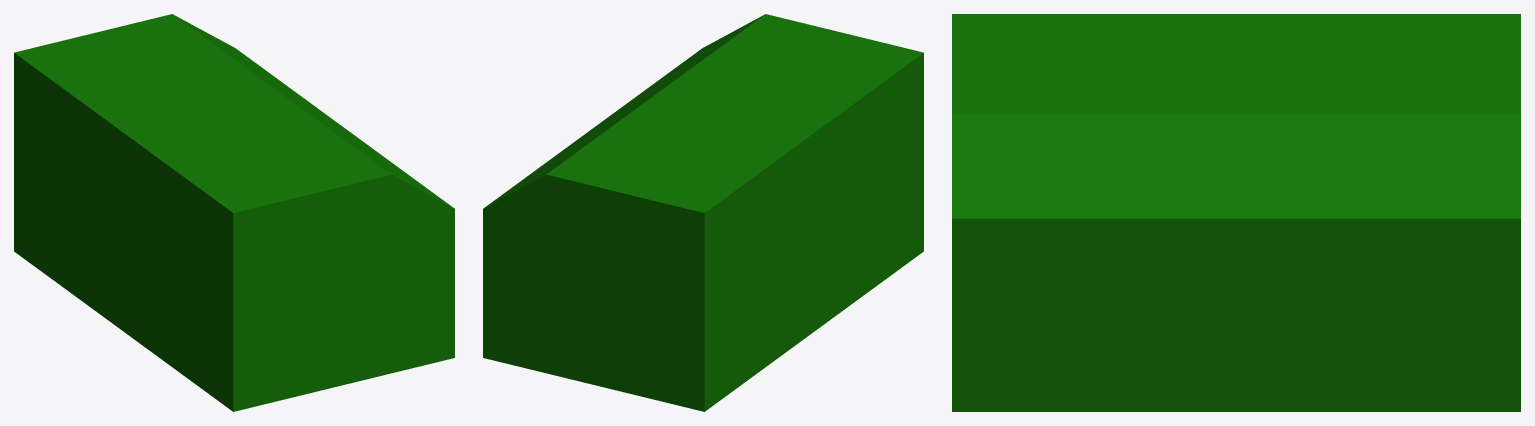
Rendered from water-side.fbx.
3 renders of one model, left to right at view 1: azimuth 30°, elevation 25°; view 2: azimuth 150°, elevation 25°; view 3: azimuth 270°, elevation 25°, orthographic. The views are drawn at different scales.
Parts seen in each view (by area): view 1: water-side; view 2: water-side; view 3: water-side.
Boxes of the visible parts, x1,y1,x2,y2 form: water-side: (14,14,454,411); water-side: (483,14,923,411); water-side: (952,14,1520,411).
Size of the model in its own units: 117 by 100 by 200.
